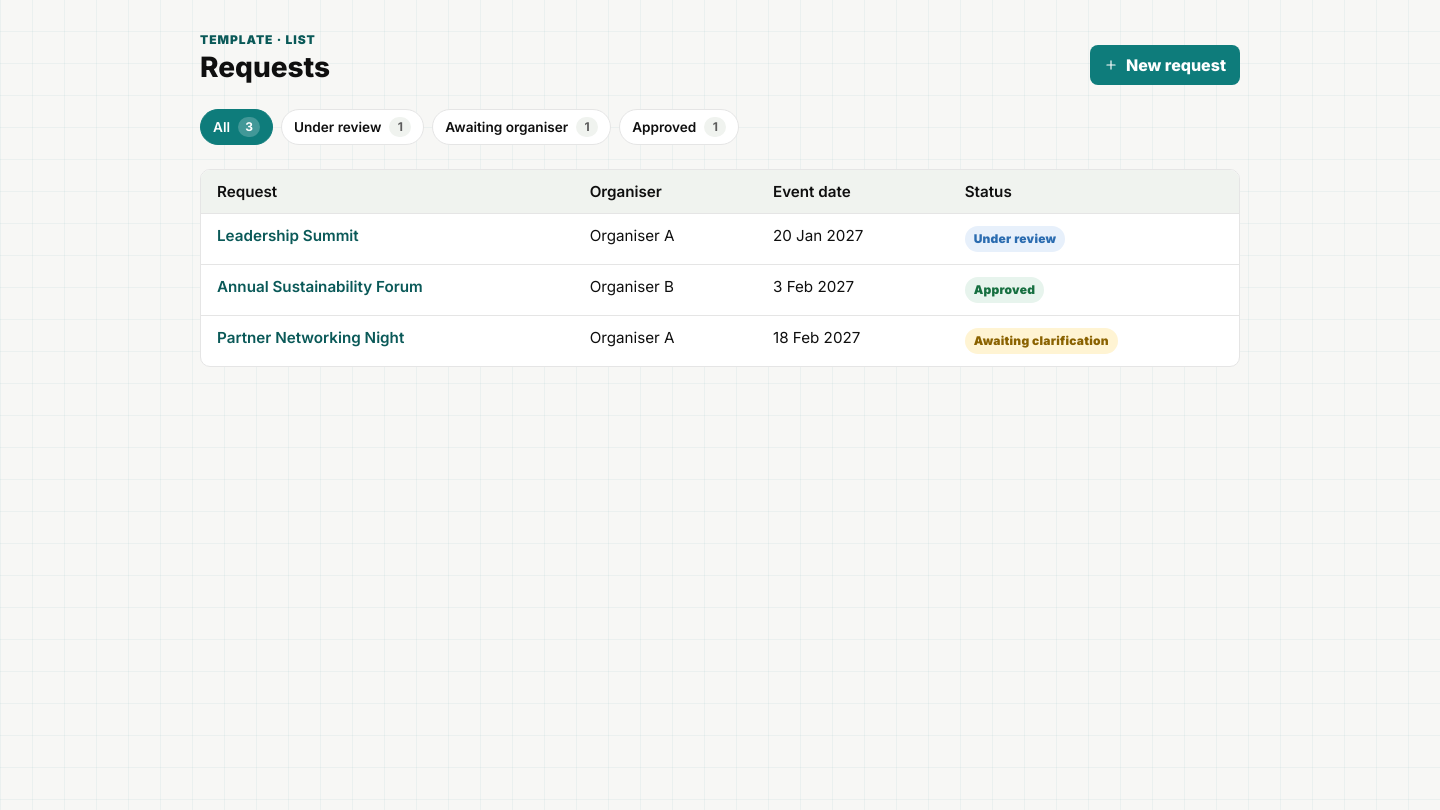
Test case: List: loads, filters with counts, and shows a filter-specific empty state
The width and height of the screenshot is (1440, 810).
Expected: the table named "Requests" is shown, [201, 170, 1239, 366]
Expected: the button "All 3" is shown, [200, 109, 273, 145]
Click the button "Approved 1": (679,127) [619, 109, 739, 145]
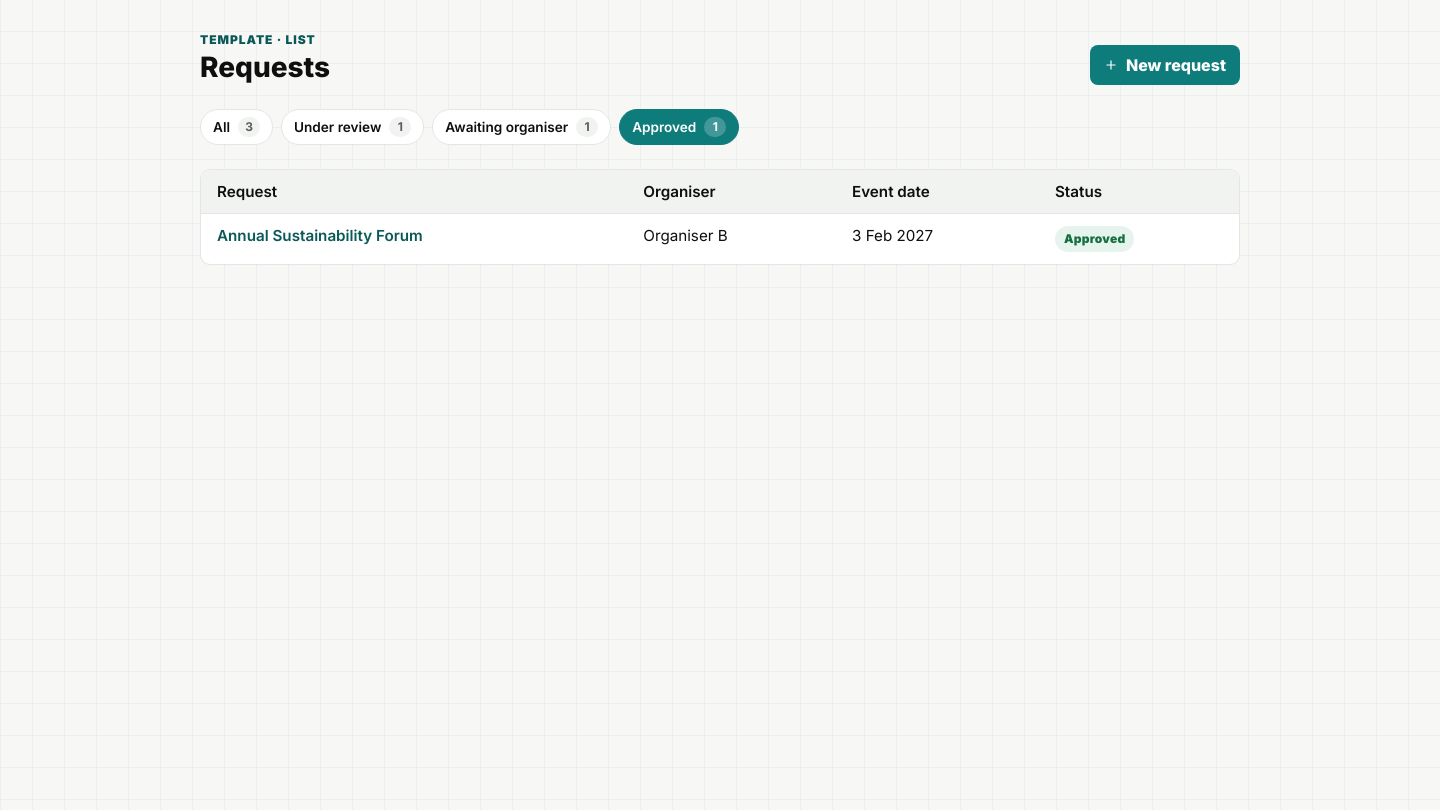
Expected: the link "Annual Sustainability Forum" is shown, [217, 226, 423, 245]
Expected: the link "Leadership Summit" is gone
